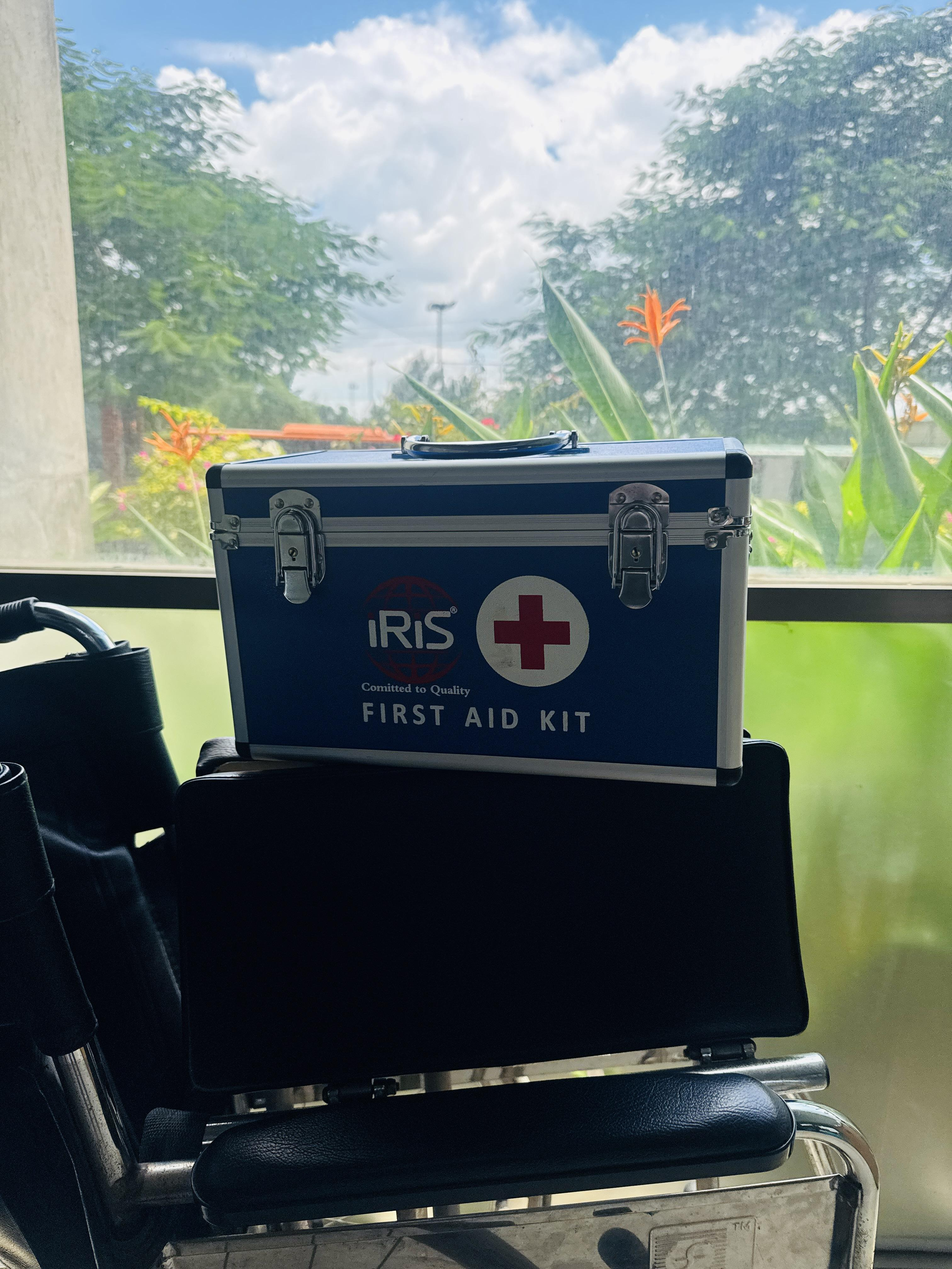FirstAidBox: (179, 409, 777, 824)
